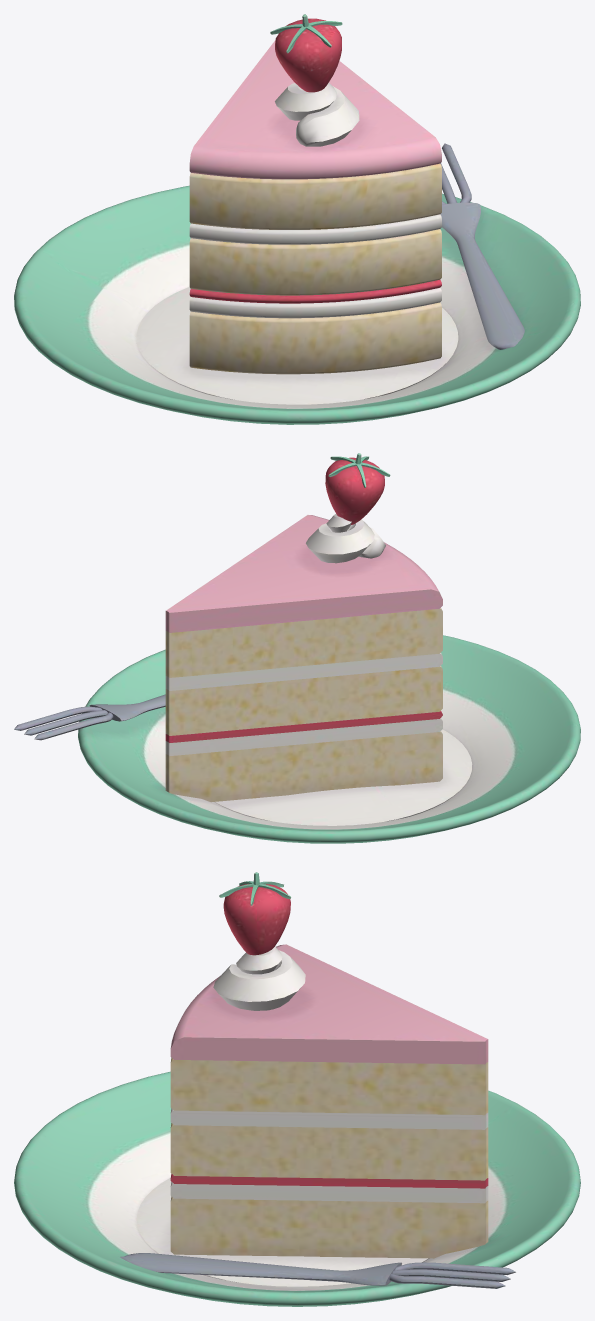
File: trozo_tarta.glb
The picture shows the model from 3 angles, top to bottom: view 1: azimuth 30°, elevation 25°; view 2: azimuth 150°, elevation 25°; view 3: azimuth 270°, elevation 25°; orthographic projection. The views are drawn at different scales.
Visible parts, largest first — view 1: cake-slice_body; view 2: cake-slice_body; view 3: cake-slice_body.
Part boxes in pixels (<box>): cake-slice_body: <box>14,14,580,424</box>; cake-slice_body: <box>14,453,580,843</box>; cake-slice_body: <box>14,872,580,1306</box>.
Bounding box in the file's own units: 0.1955 × 0.133 × 0.1926.
1 material, 1 textured.
